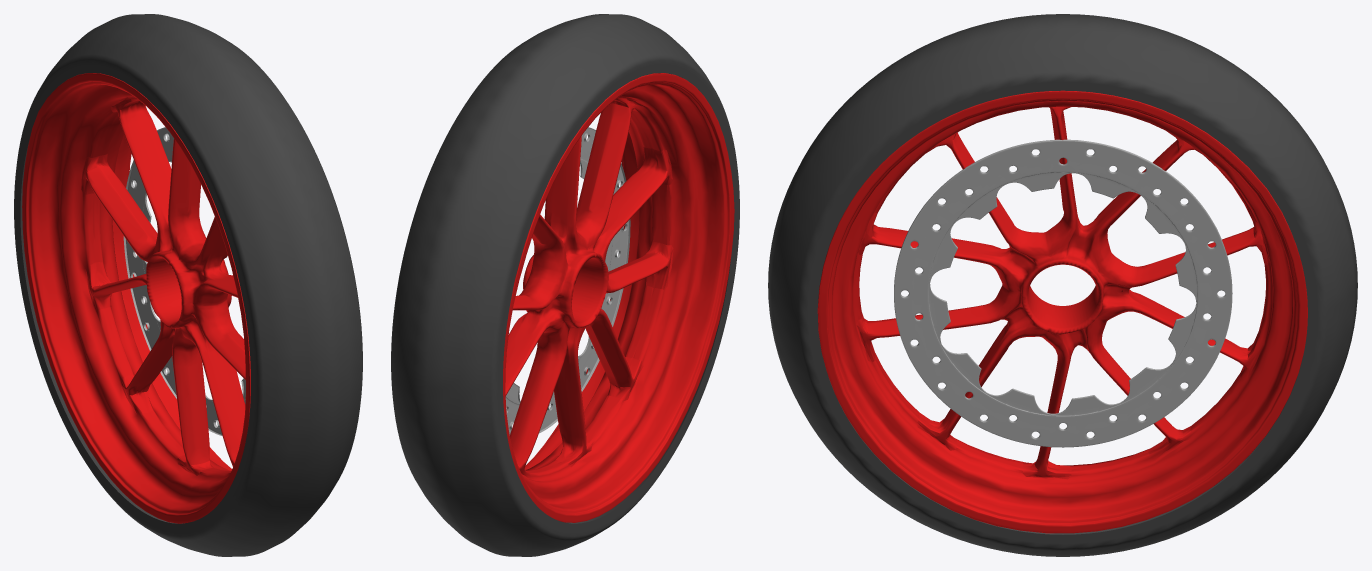
Rendered from ruota_lega.glb.
3 renders of one model, left to right at view 1: azimuth 30°, elevation 25°; view 2: azimuth 150°, elevation 25°; view 3: azimuth 270°, elevation 25°, orthographic. The views are drawn at different scales.
Parts seen in each view (by area): view 1: ricambio; view 2: ricambio; view 3: ricambio.
Part boxes in pixels (x1,y1,x2,y2): ricambio: [14, 14, 362, 556]; ricambio: [391, 14, 739, 556]; ricambio: [768, 14, 1357, 556].
Bounding box in the file's own units: 0.1445 × 0.64 × 0.64.
